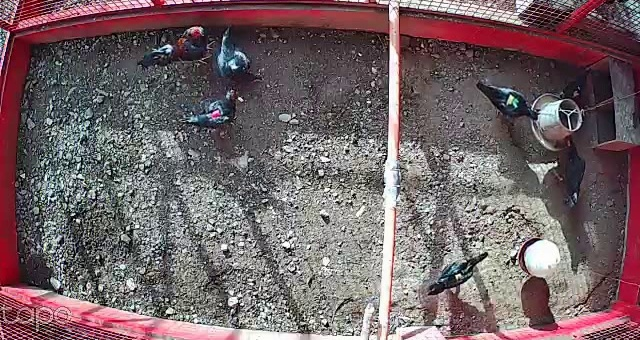Chicken: (545, 132, 592, 211), (213, 22, 263, 86), (426, 249, 491, 298), (475, 79, 540, 124), (182, 87, 240, 128)
Rooster: (139, 20, 221, 72)
Saddle_Color_Red: (210, 109, 222, 121)
Saddle_Color_YellowGreen: (503, 92, 521, 110)
